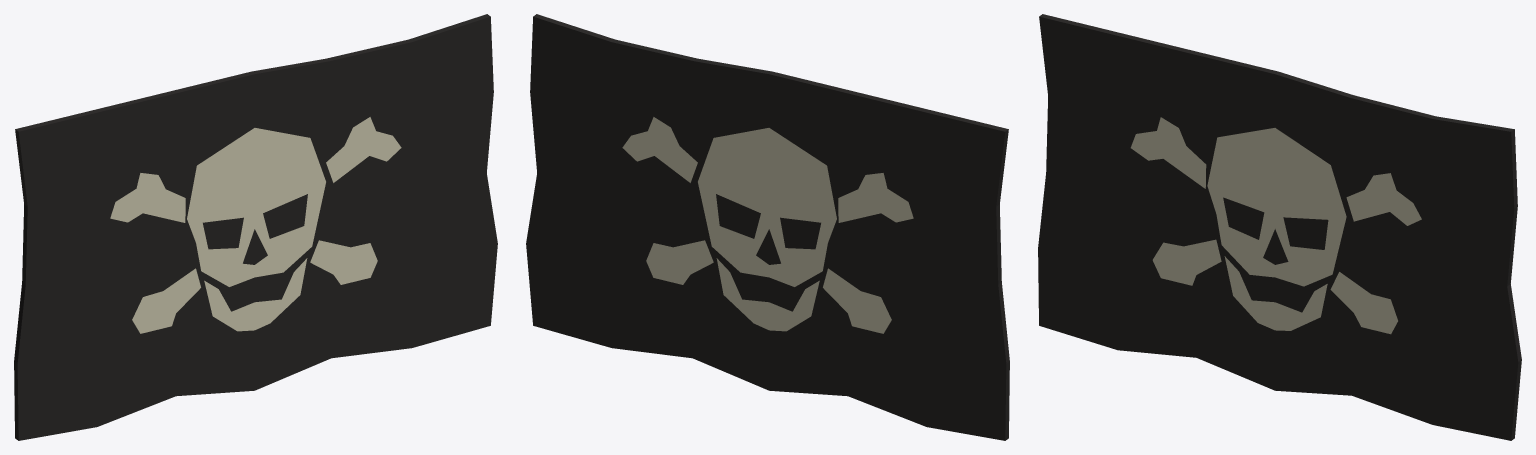
Rendered from Flag_3.fbx.
3 renders of one model, left to right at view 1: azimuth 30°, elevation 25°; view 2: azimuth 150°, elevation 25°; view 3: azimuth 330°, elevation 25°, orthographic.
Parts seen in each view (by area): view 1: Flag_3; view 2: Flag_3; view 3: Flag_3.
Boxes of the visible parts, x1,y1,x2,y2 form: Flag_3: (14,14,497,440); Flag_3: (526,14,1009,440); Flag_3: (1038,14,1521,440).
Bounding box in the file's own units: 232 × 146 × 3.
